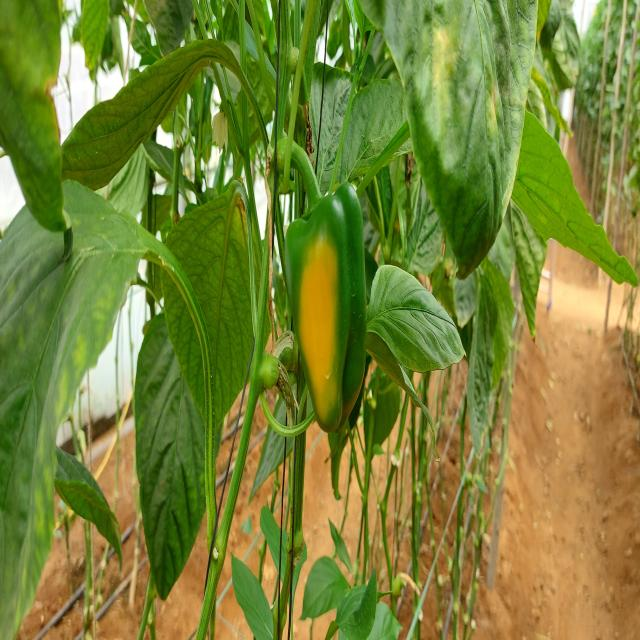GreenishYellow--Can-be-Harvested: (276, 184, 375, 447)
